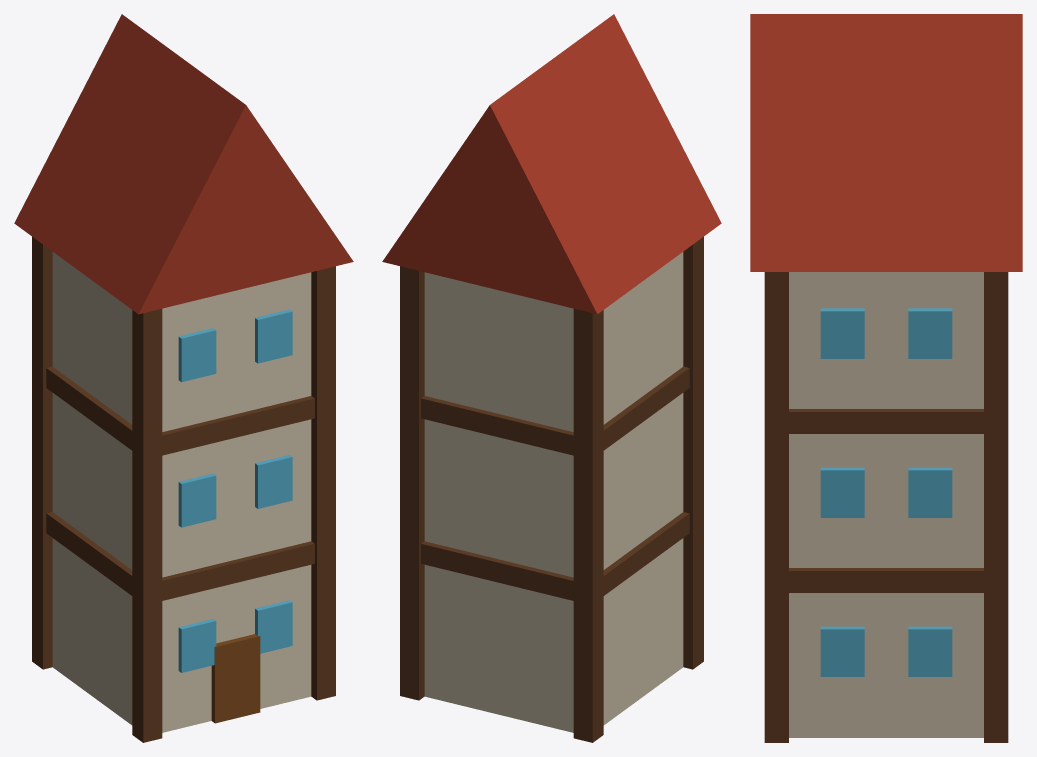
The model's file is mill.glb.
The picture shows the model from 3 angles, left to right: view 1: azimuth 30°, elevation 25°; view 2: azimuth 150°, elevation 25°; view 3: azimuth 270°, elevation 25°; orthographic projection. The views are drawn at different scales.
Visible parts, largest first — view 1: beams; view 2: beams; view 3: beams.
Part boxes in pixels (bbox=[...]): beams: bbox=[14, 14, 353, 742]; beams: bbox=[382, 14, 721, 742]; beams: bbox=[750, 14, 1022, 742].
Size of the model in its own units: 1.24 by 3.41 by 1.24.
